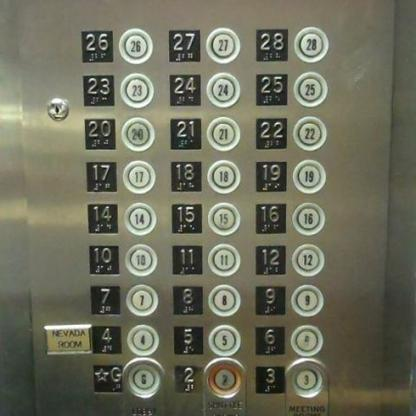10: (123, 241, 158, 276), (86, 242, 120, 275)
11: (169, 241, 204, 276), (206, 241, 240, 276)
12: (251, 242, 289, 276), (289, 242, 326, 276)
14: (84, 200, 120, 235), (122, 200, 158, 235)
15: (168, 199, 205, 236), (205, 199, 241, 236)
16: (252, 198, 289, 235), (290, 199, 326, 236)
17: (82, 157, 119, 193), (120, 157, 156, 193)
18: (166, 158, 203, 194), (205, 158, 242, 194)
19: (252, 156, 289, 192), (290, 157, 327, 193)
2: (202, 354, 247, 401), (172, 362, 201, 394)
20: (80, 114, 116, 151), (120, 114, 156, 151)
21: (166, 114, 203, 151), (204, 114, 240, 151)
22: (290, 113, 327, 150), (253, 113, 289, 150)
23: (117, 71, 154, 108), (80, 71, 116, 108)
24: (166, 70, 203, 107), (205, 70, 241, 107)
25: (291, 70, 328, 107), (253, 69, 289, 106)
26: (116, 26, 153, 64), (78, 27, 115, 63)
27: (165, 27, 201, 63), (204, 26, 240, 62)
28: (291, 25, 328, 62), (252, 26, 289, 62)
3: (282, 354, 327, 398), (251, 361, 286, 395)
4: (125, 322, 159, 356), (88, 323, 122, 356)
5: (170, 322, 204, 356), (206, 322, 240, 356)
6: (251, 322, 287, 356)
7: (88, 282, 122, 315), (123, 282, 157, 315)
8: (206, 282, 241, 316), (170, 282, 204, 316)
9: (252, 282, 288, 316), (288, 283, 323, 317)
G: (122, 356, 166, 400)
blur: (289, 322, 324, 357)
keyhole: (43, 94, 70, 124)
sG: (88, 361, 122, 394)
